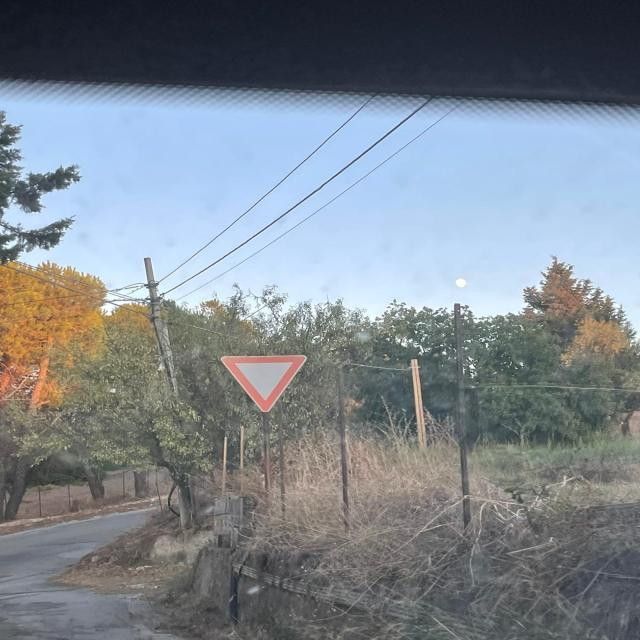prio_give_way: (218, 353, 309, 413)
